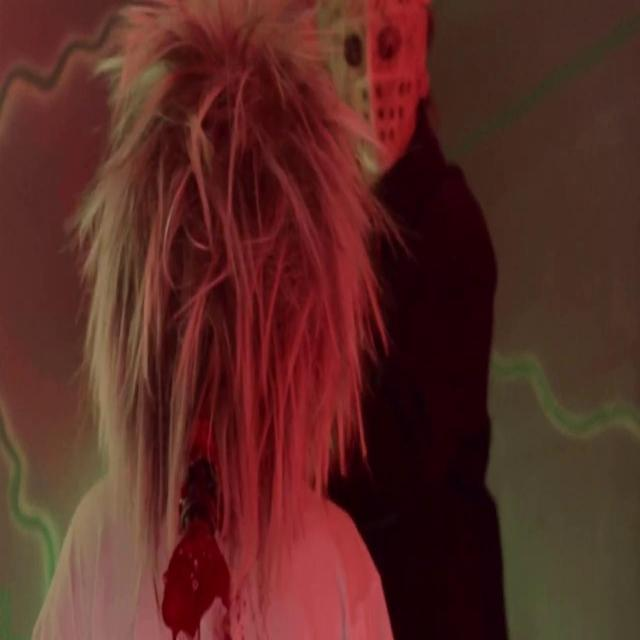flood: (162, 474, 234, 638)
